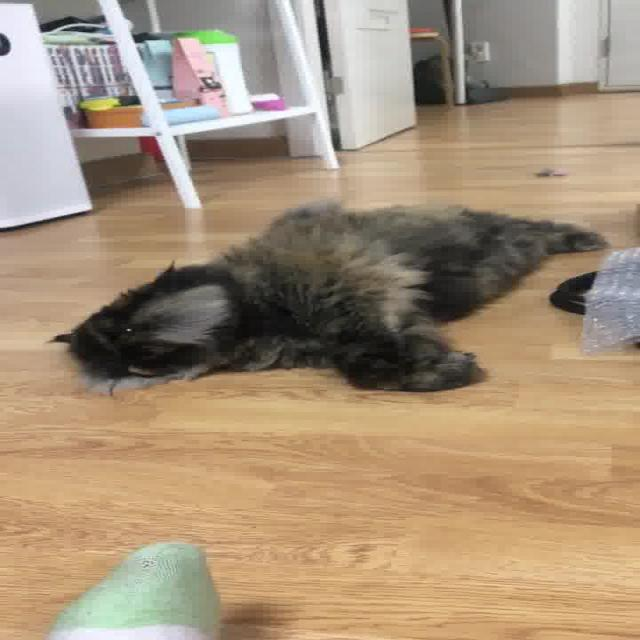cat: (37, 196, 626, 396)
